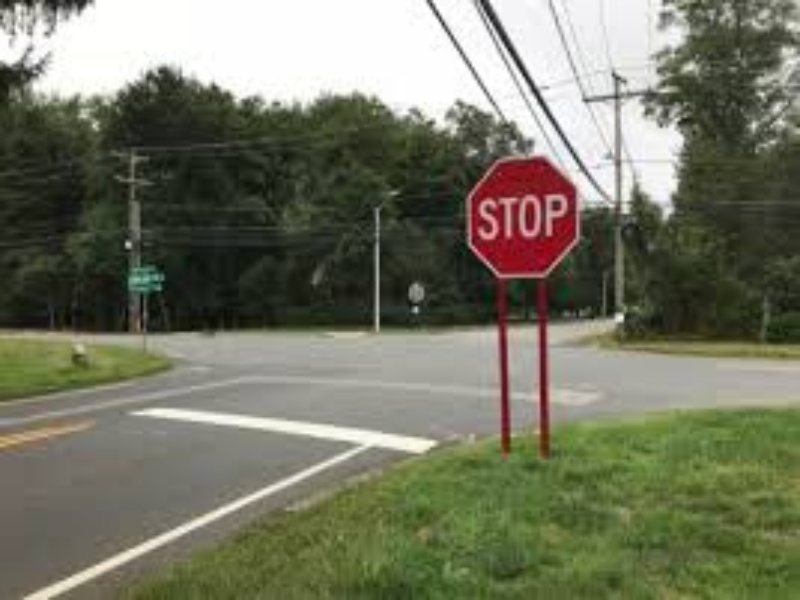stop sign: (460, 151, 586, 285)
